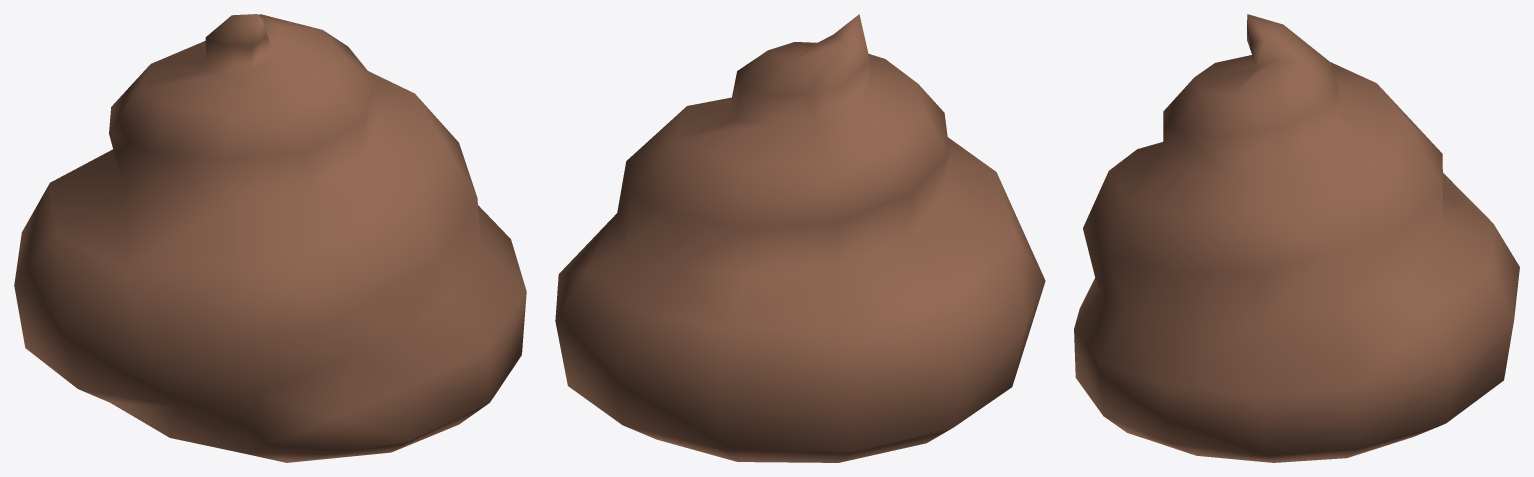
File: GBB_L.fbx
The picture shows the model from 3 angles, left to right: view 1: azimuth 30°, elevation 25°; view 2: azimuth 150°, elevation 25°; view 3: azimuth 270°, elevation 25°; orthographic projection. The views are drawn at different scales.
Visible parts, largest first — view 1: gbb; view 2: gbb; view 3: gbb.
Boxes of the visible parts, bbox=[...] form: gbb: bbox=[14, 14, 526, 462]; gbb: bbox=[555, 14, 1045, 462]; gbb: bbox=[1074, 14, 1519, 462].
Size of the model in its own units: 7.98 by 6.82 by 7.64.
